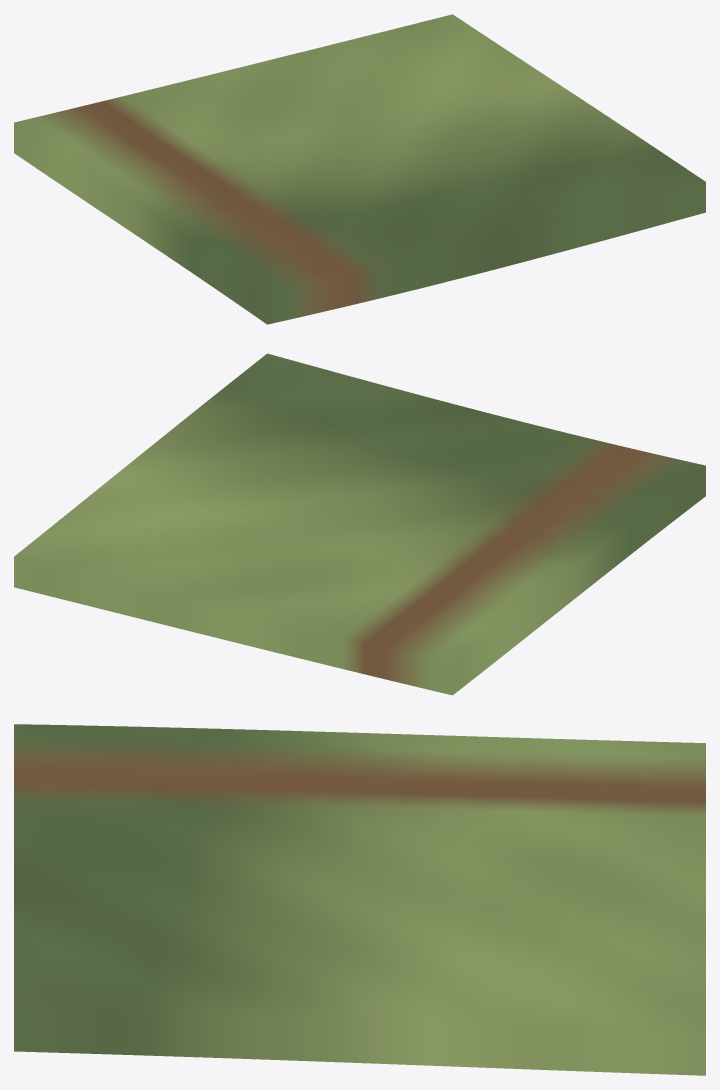
3 renders of one model, top to bottom at view 1: azimuth 30°, elevation 25°; view 2: azimuth 150°, elevation 25°; view 3: azimuth 270°, elevation 25°, orthographic. The views are drawn at different scales.
Parts seen in each view (by area): view 1: terrain; view 2: terrain; view 3: terrain.
Boxes of the visible parts, x1,y1,x2,y2 form: terrain: [14, 14, 705, 324]; terrain: [14, 353, 705, 695]; terrain: [14, 724, 705, 1075].
Size of the model in its own units: 30 by 3.26 by 30.
